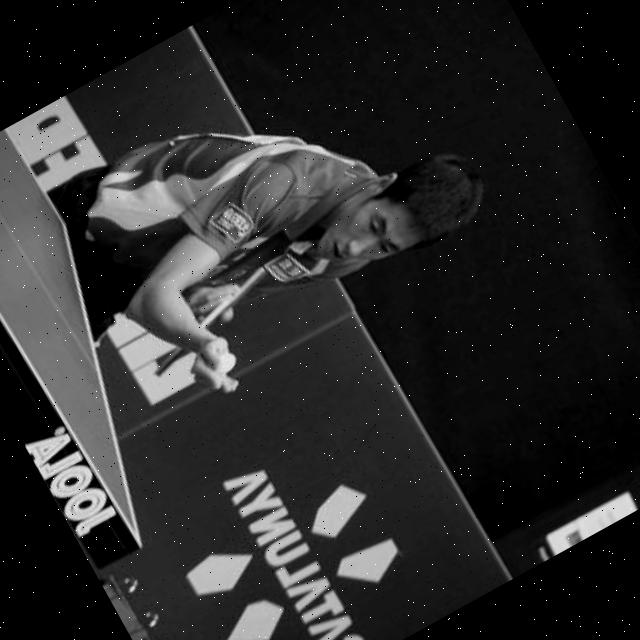ping-pong-ball: (208, 350, 240, 378)
